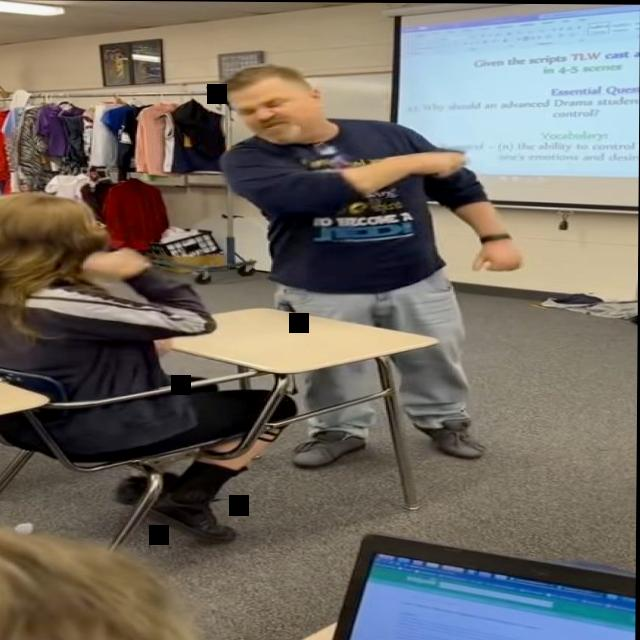NO-Mask: (221, 79, 318, 146)
